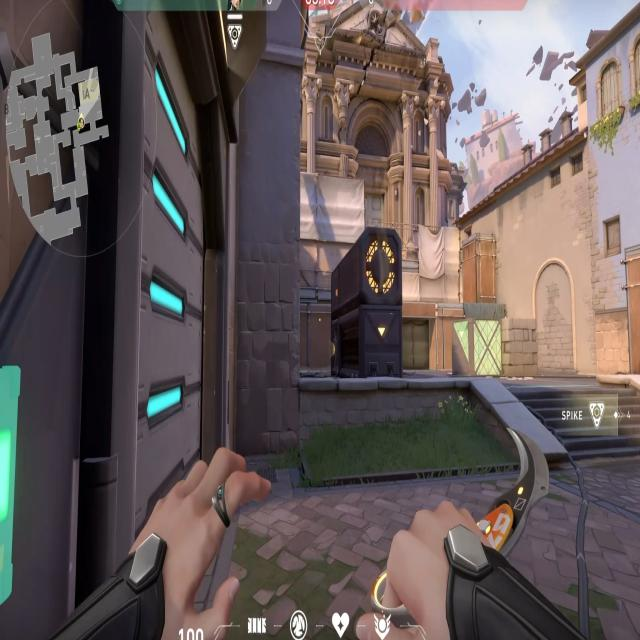A_Heaven_Box: (459, 228, 502, 310)
A_Heaven_Wall: (293, 171, 369, 303)
A_Hell: (352, 306, 448, 376)
A_Site_Box: (450, 318, 542, 377)
